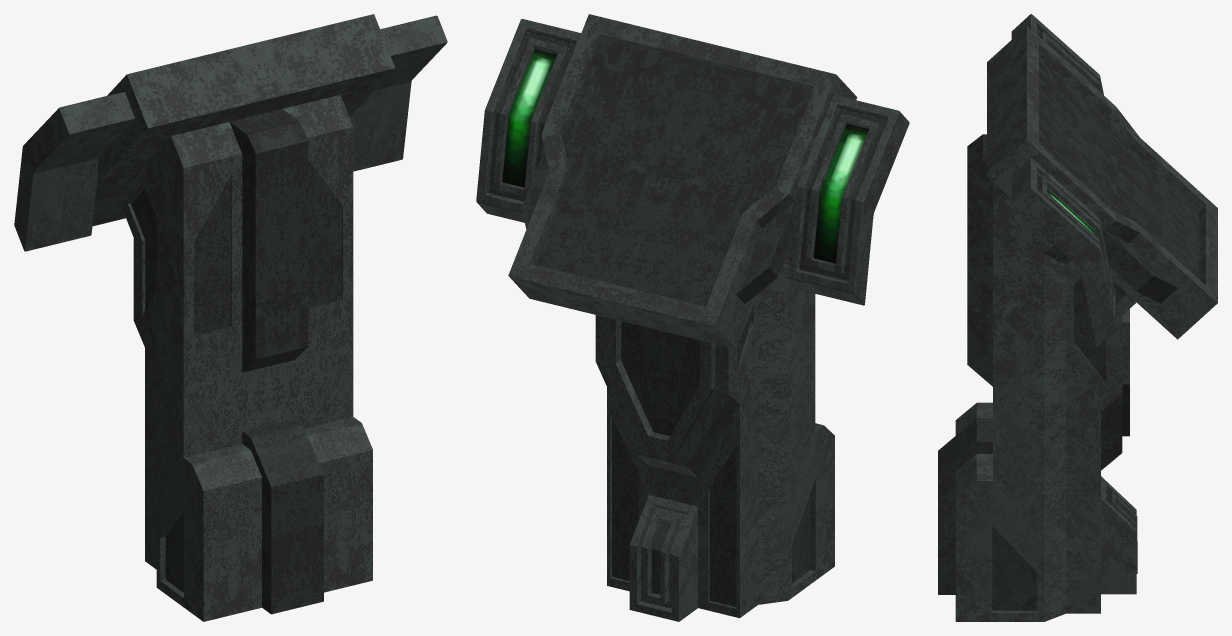
Rendered from Podium_3.fbx.
The picture shows the model from 3 angles, left to right: view 1: azimuth 30°, elevation 25°; view 2: azimuth 150°, elevation 25°; view 3: azimuth 270°, elevation 25°; orthographic projection. The views are drawn at different scales.
Parts seen in each view (by area): view 1: Podium, Cube.001, Cube.182; view 2: Podium, Cube.001, Cube.182; view 3: Podium, Cube.182, Cube.001.
Part boxes in pixels (x1,y1,x2,y2): Podium: (92, 14, 394, 621); Cube.001: (14, 91, 134, 251); Cube.182: (349, 15, 447, 171); Podium: (508, 14, 857, 621); Cube.001: (787, 95, 909, 305); Cube.182: (476, 19, 580, 222); Podium: (938, 26, 1217, 621); Cube.182: (1011, 158, 1116, 347); Cube.001: (1011, 14, 1103, 94).
Size of the model in its own units: 123 by 164 by 83.09.
3 materials, 2 textured.
